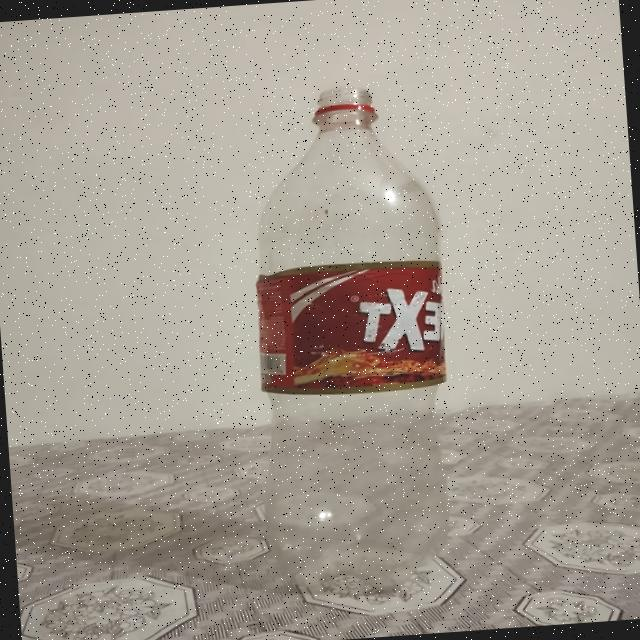bottle: (237, 79, 464, 596)
label: (256, 260, 446, 398)
